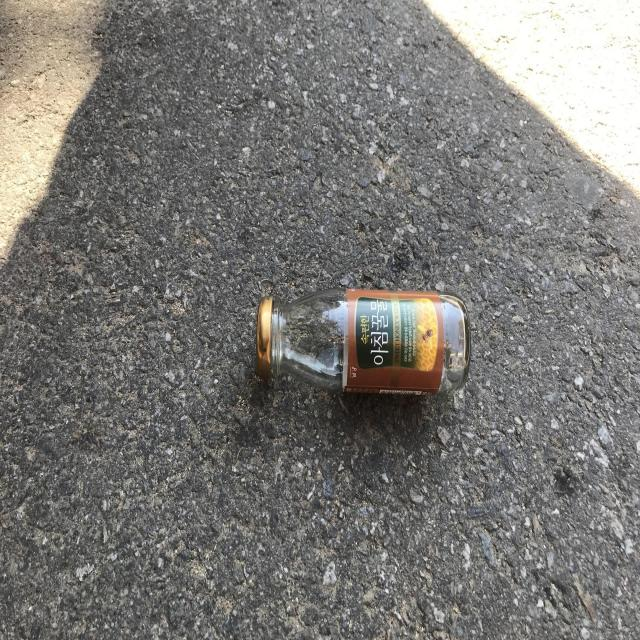glass: (257, 289, 471, 395)
